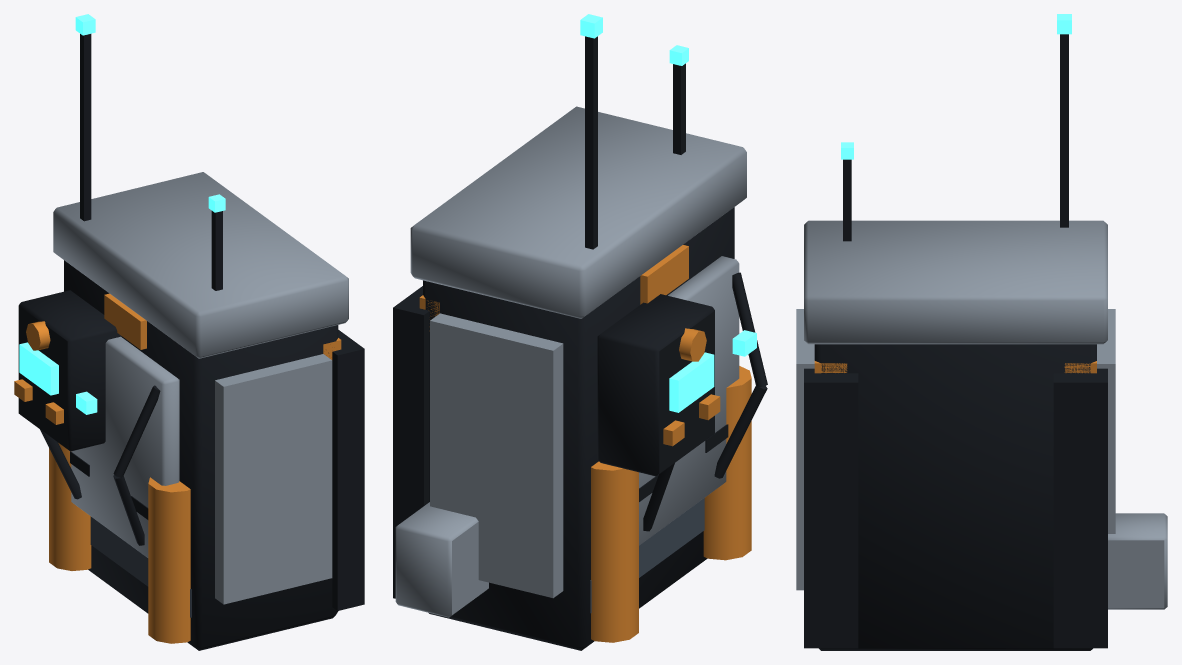
The model's file is mochila_comunicaciones.glb.
3 views of the same model, side by side, from view 1: azimuth 30°, elevation 25°; view 2: azimuth 150°, elevation 25°; view 3: azimuth 270°, elevation 25° (orthographic). The views are drawn at different scales.
Parts seen in each view (by area): view 1: mochila_comunicaciones; view 2: mochila_comunicaciones; view 3: mochila_comunicaciones.
Part boxes in pixels (x1,y1,x2,y2): mochila_comunicaciones: (14,14,364,650); mochila_comunicaciones: (393,14,767,650); mochila_comunicaciones: (796,14,1167,650).
Size of the model in its own units: 0.251 by 0.577 by 0.342.
